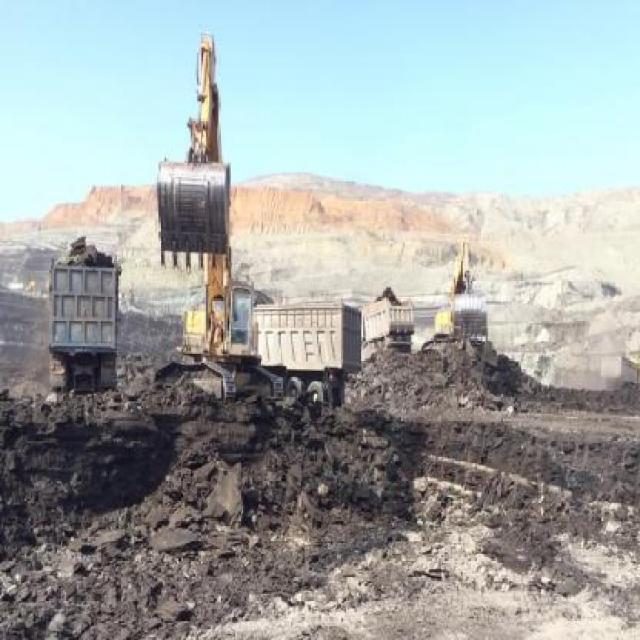Dump Truck: (257, 303, 358, 419), (51, 241, 118, 396), (363, 292, 414, 357)
Excavator: (152, 33, 256, 404), (430, 235, 488, 360)
